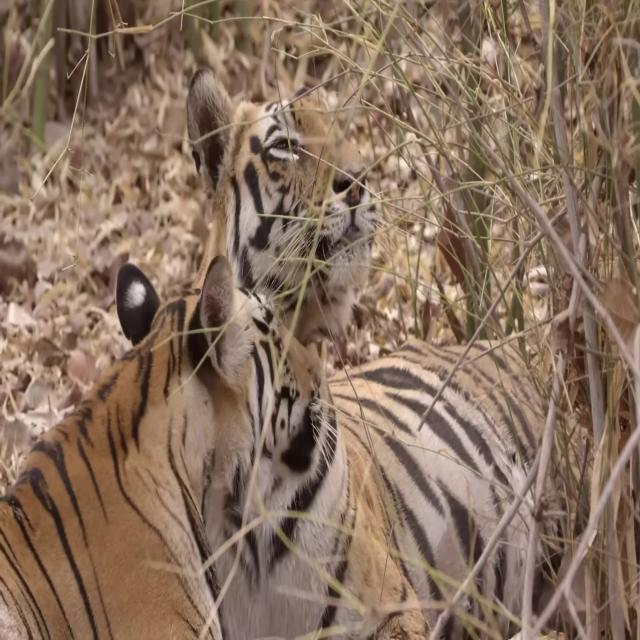tiger: (186, 65, 640, 640), (0, 253, 323, 640)
